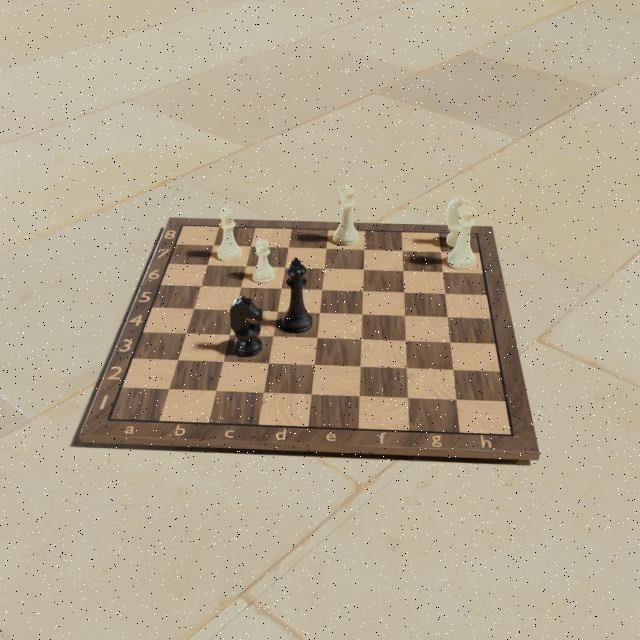black-king: (279, 256, 315, 334)
black-knight: (226, 294, 266, 358)
white-bishop: (215, 202, 241, 262)
white-king: (446, 199, 477, 272)
white-knight: (445, 196, 475, 251)
white-pawn: (251, 236, 275, 285)
white-queen: (331, 183, 362, 248)
